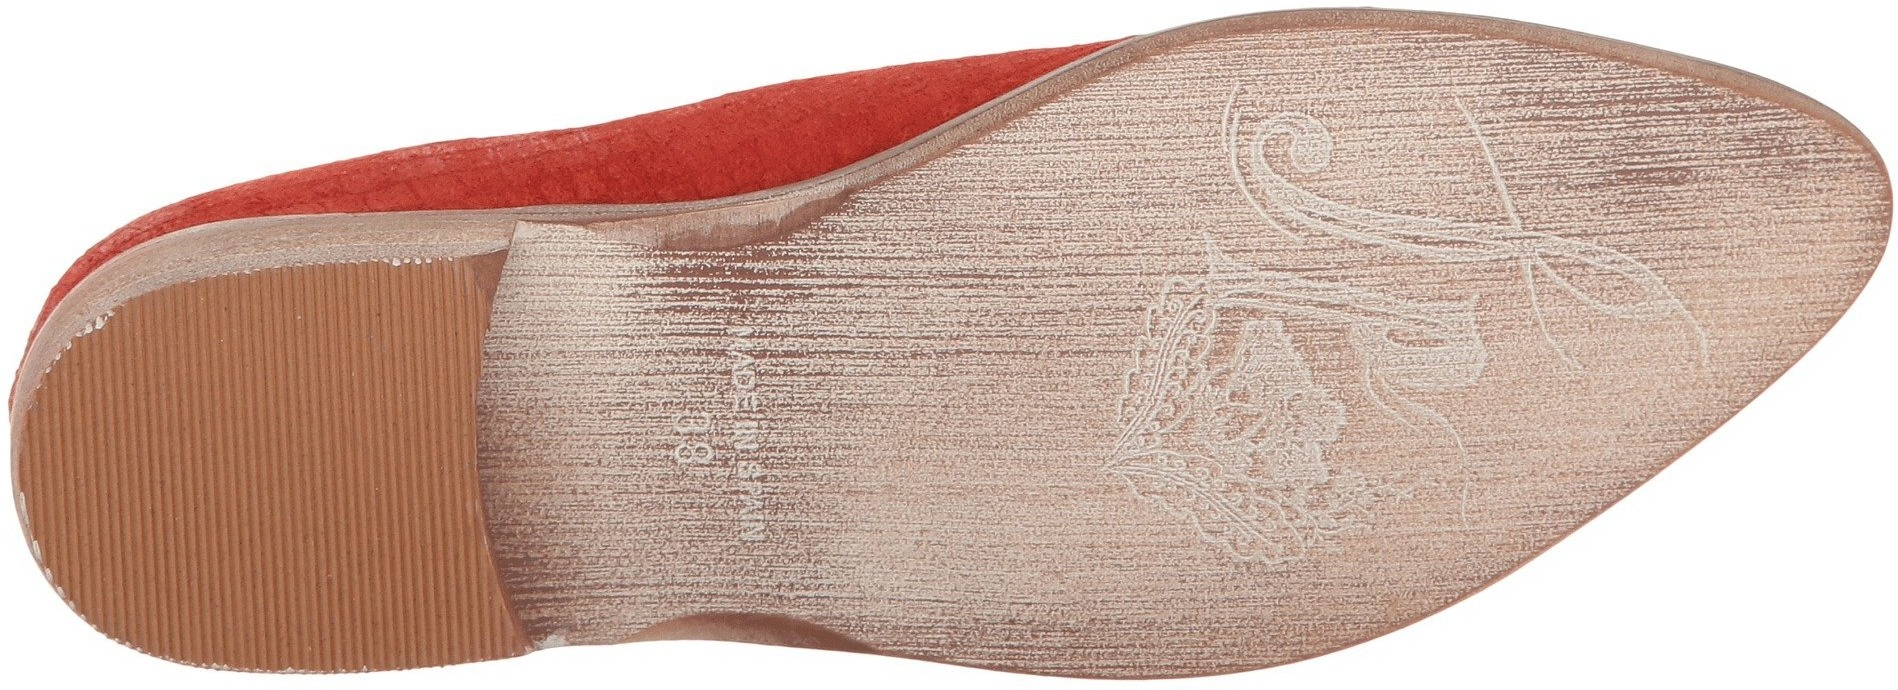line: (241, 275, 467, 477), (53, 378, 238, 553), (270, 487, 459, 656)
other: (1102, 61, 1620, 521), (852, 421, 1108, 640), (842, 200, 1085, 427), (1670, 133, 1836, 291)
text: (695, 322, 789, 416), (704, 454, 793, 548), (652, 401, 724, 479)
